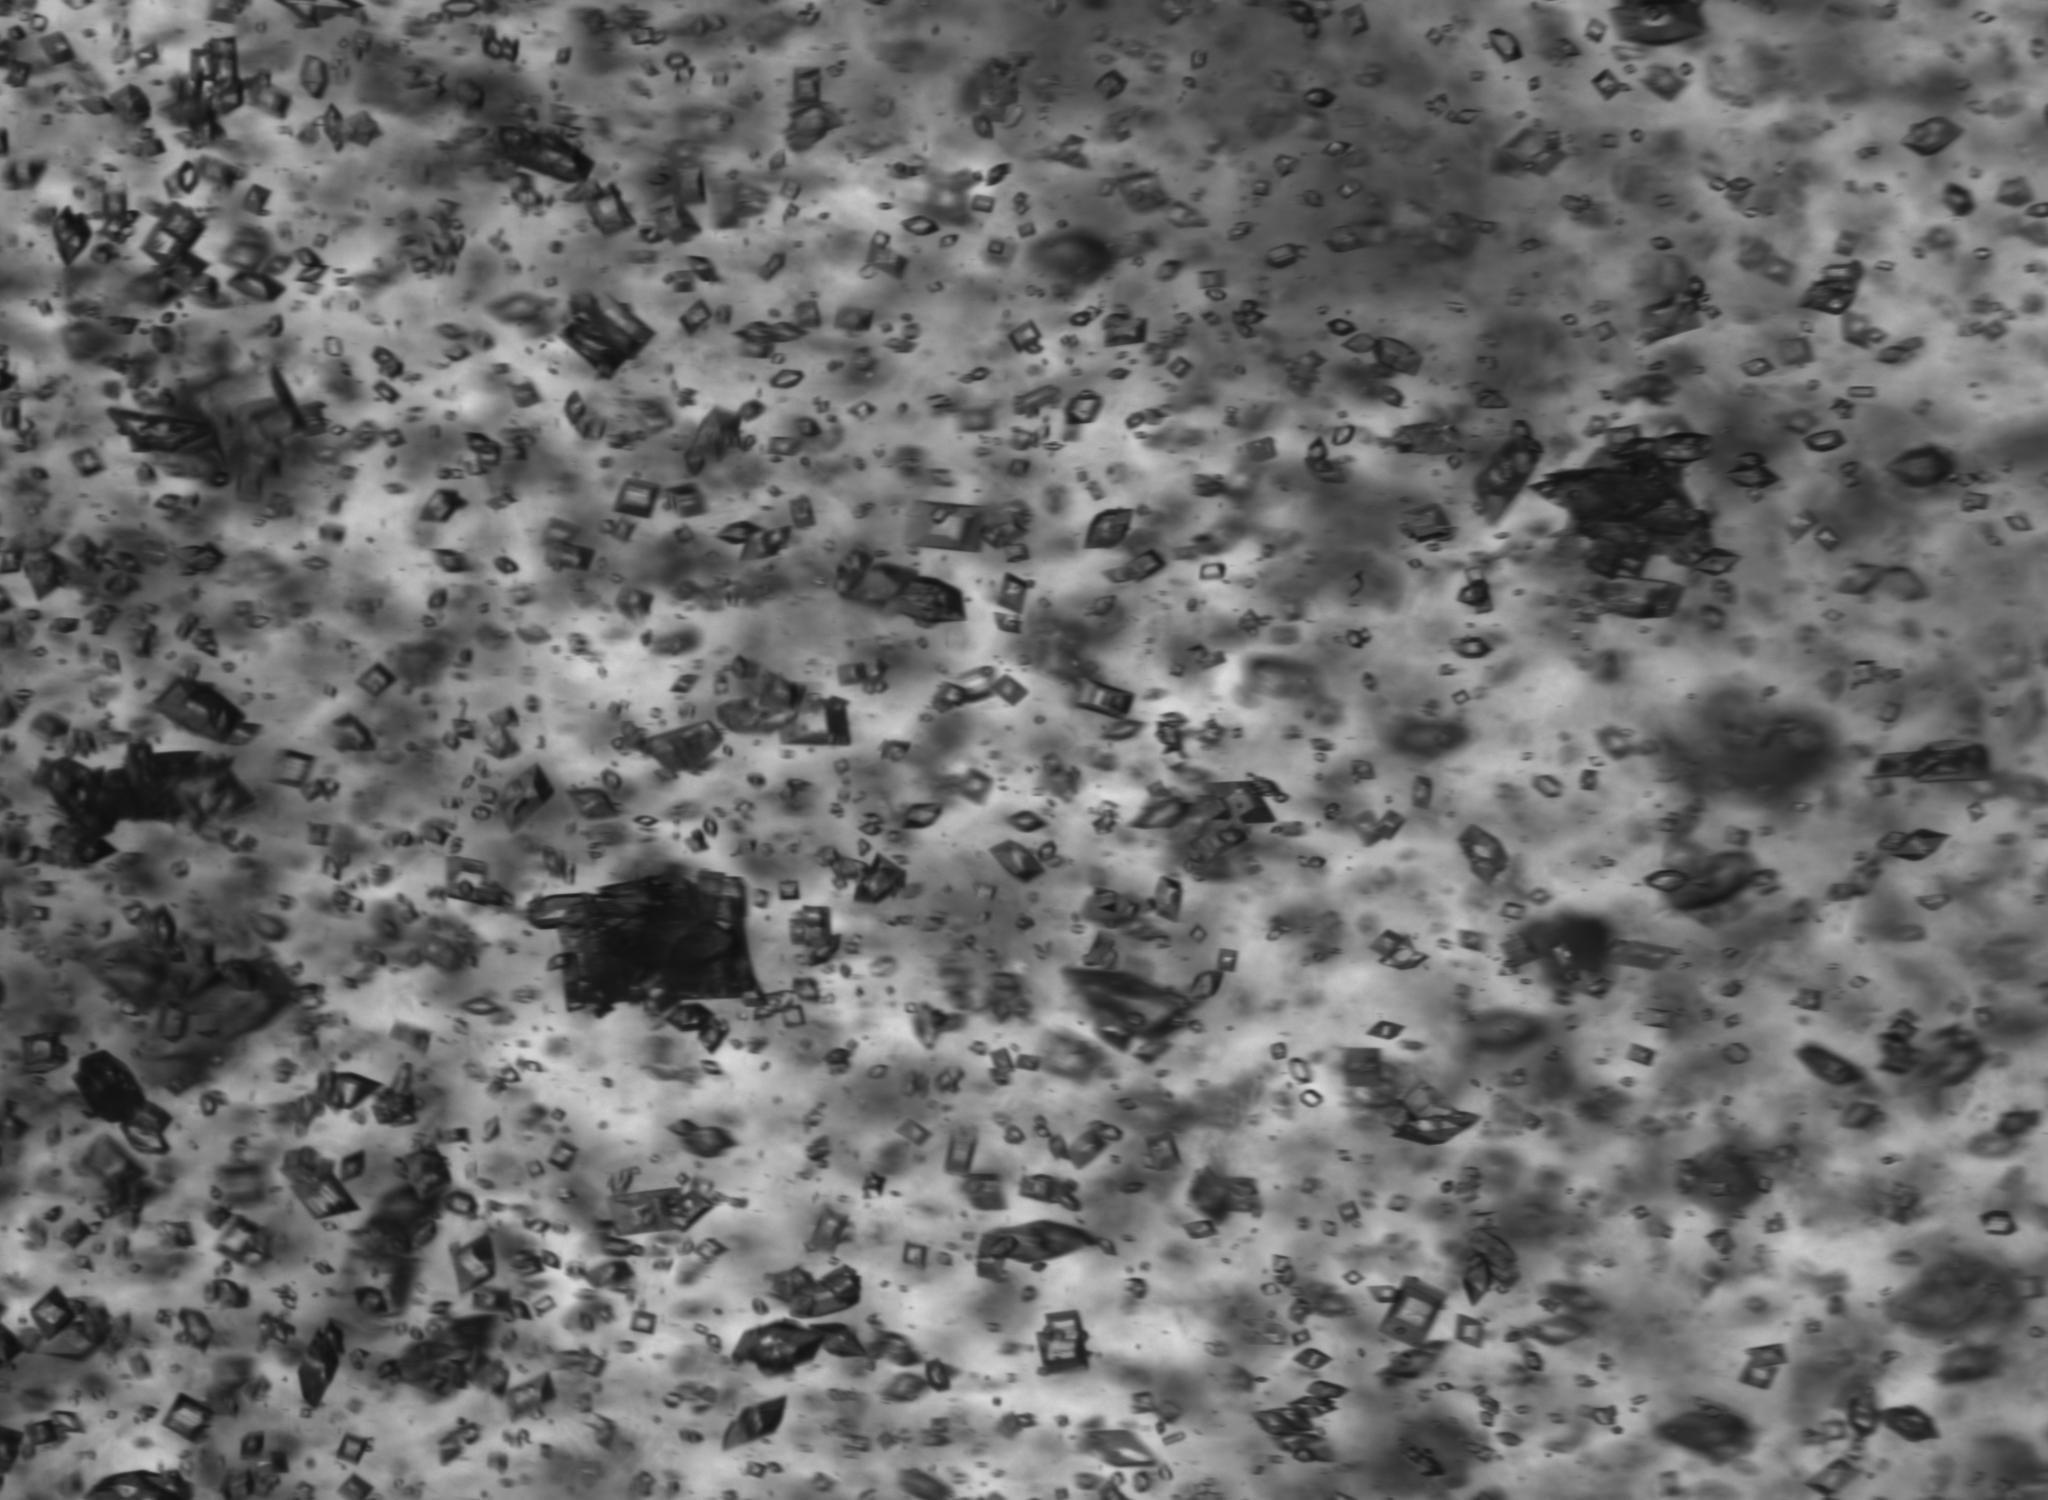crystal: (525, 869, 757, 1013), (33, 741, 251, 864), (1534, 439, 1711, 579), (180, 367, 321, 496), (709, 655, 846, 746), (156, 35, 245, 151), (1072, 969, 1194, 1053), (377, 1314, 496, 1398), (833, 554, 965, 627), (560, 294, 654, 379), (73, 1051, 167, 1134), (272, 1072, 383, 1137), (153, 678, 256, 744), (976, 1220, 1100, 1276), (280, 1145, 364, 1220), (1476, 439, 1546, 522), (499, 122, 595, 180), (110, 409, 216, 460), (733, 1320, 824, 1378), (607, 1188, 711, 1236), (1379, 1276, 1447, 1347), (690, 401, 760, 469), (902, 499, 987, 554), (631, 722, 722, 773), (776, 1265, 863, 1314), (1873, 744, 1991, 781), (130, 253, 208, 307), (1638, 290, 1708, 348), (1609, 0, 1705, 43), (301, 1315, 345, 1405), (1587, 577, 1682, 617), (723, 1395, 787, 1452), (1035, 1311, 1091, 1374), (1501, 127, 1566, 178), (1390, 1110, 1484, 1145), (1204, 781, 1280, 824), (502, 767, 553, 830), (781, 105, 846, 153), (1802, 262, 1862, 313), (666, 1005, 728, 1053), (149, 205, 200, 262), (665, 1118, 738, 1158), (1088, 1428, 1159, 1468), (650, 192, 703, 247), (1072, 676, 1135, 721), (372, 1061, 415, 1126), (1463, 822, 1507, 884), (1596, 938, 1679, 972), (587, 183, 639, 235), (1797, 1045, 1865, 1085), (1891, 444, 1956, 485), (453, 1231, 495, 1295), (731, 321, 809, 355), (854, 854, 906, 903), (1903, 113, 1962, 156), (1802, 1457, 1862, 1498), (509, 1373, 557, 1424), (33, 1288, 80, 1341), (987, 840, 1045, 881), (24, 550, 70, 601), (1018, 1174, 1081, 1210), (1115, 172, 1170, 213), (1881, 1405, 1943, 1441), (248, 68, 293, 119), (56, 205, 92, 266), (1396, 423, 1464, 455), (805, 1206, 851, 1252), (445, 857, 488, 905), (738, 525, 793, 562), (1062, 1128, 1108, 1171), (219, 1223, 267, 1265), (1129, 795, 1188, 829), (1740, 1344, 1789, 1384), (164, 1395, 210, 1436), (1086, 509, 1135, 547), (329, 713, 378, 751), (226, 272, 288, 302), (813, 1323, 868, 1357), (790, 907, 833, 950), (100, 192, 138, 240), (1307, 436, 1345, 484), (568, 394, 607, 439), (865, 242, 910, 282), (964, 1172, 1008, 1212), (22, 1032, 68, 1071), (111, 84, 153, 126), (270, 748, 313, 787), (1251, 1408, 1313, 1435), (568, 787, 620, 819), (1375, 340, 1425, 374), (1145, 1131, 1183, 1174), (178, 1309, 215, 1354), (1406, 506, 1452, 541), (121, 1125, 170, 1156), (614, 480, 661, 512), (172, 542, 227, 569), (1897, 832, 1949, 861), (1013, 383, 1057, 417), (391, 1020, 432, 1055), (544, 544, 596, 571), (957, 767, 994, 805), (1124, 549, 1166, 582), (1690, 547, 1741, 574), (997, 573, 1029, 616), (1464, 1260, 1495, 1304), (347, 111, 385, 146), (668, 484, 706, 519), (1379, 945, 1428, 972), (356, 663, 398, 695), (1994, 177, 2035, 208), (1105, 318, 1148, 348), (674, 165, 706, 205), (1325, 224, 1366, 255), (946, 1133, 976, 1174), (992, 673, 1029, 706), (1487, 29, 1523, 62), (714, 520, 765, 544), (207, 1280, 248, 1309), (754, 991, 795, 1020), (588, 1261, 634, 1287), (1337, 3, 1371, 38), (1725, 466, 1778, 488), (467, 433, 504, 464), (1592, 68, 1628, 100), (302, 57, 329, 100), (161, 1001, 189, 1040), (1156, 876, 1181, 921), (1288, 1397, 1339, 1419), (421, 493, 463, 520), (41, 32, 75, 65), (682, 299, 712, 336), (832, 305, 875, 331), (1008, 318, 1040, 352), (1065, 393, 1099, 425), (72, 447, 107, 477), (902, 803, 943, 829), (412, 62, 448, 91), (336, 1473, 374, 1500), (1263, 243, 1302, 269), (483, 725, 515, 757), (86, 604, 119, 635), (455, 78, 485, 111), (1094, 68, 1127, 99), (1644, 870, 1689, 892), (1458, 1312, 1485, 1349), (32, 711, 70, 736), (545, 517, 584, 542), (1272, 1433, 1323, 1452), (60, 1220, 92, 1250), (1377, 806, 1407, 838), (370, 347, 404, 375), (789, 496, 817, 530), (897, 1118, 930, 1147), (603, 1236, 646, 1258), (509, 1250, 544, 1277), (425, 197, 461, 223), (1978, 1210, 2015, 1236), (1452, 636, 1493, 659), (663, 52, 693, 83), (337, 1433, 366, 1465), (1053, 134, 1084, 162), (483, 35, 518, 60), (1409, 776, 1434, 811), (685, 256, 720, 282), (1232, 299, 1267, 324), (156, 903, 176, 946), (1102, 719, 1142, 741), (472, 1287, 509, 1311), (549, 1141, 577, 1171), (1247, 436, 1277, 464), (27, 1419, 59, 1446), (253, 915, 285, 942), (1008, 811, 1049, 832), (355, 1287, 388, 1312), (437, 547, 472, 571), (326, 105, 343, 153), (1293, 1349, 1332, 1370), (1342, 332, 1382, 353), (243, 186, 272, 215), (1814, 525, 1843, 554), (838, 662, 868, 689), (514, 382, 545, 407), (924, 1358, 949, 1390), (458, 997, 504, 1015), (695, 1239, 728, 1263), (1705, 1231, 1738, 1255), (488, 706, 522, 730), (1366, 1021, 1407, 1040), (1603, 425, 1641, 445), (797, 67, 819, 102), (832, 857, 867, 880), (1740, 356, 1775, 379), (1458, 579, 1488, 604), (445, 1191, 477, 1215), (992, 1045, 1016, 1077), (1272, 1255, 1296, 1287), (669, 671, 701, 695), (903, 215, 940, 235), (103, 573, 140, 593), (1806, 429, 1843, 450), (440, 1432, 463, 1465), (1158, 722, 1183, 751), (779, 1004, 808, 1029), (1307, 1381, 1348, 1398), (1625, 1043, 1655, 1067), (1643, 1007, 1674, 1029), (54, 1411, 87, 1432), (151, 326, 176, 353), (442, 0, 480, 17), (766, 437, 801, 457), (1876, 830, 1908, 851), (879, 741, 911, 762), (175, 614, 200, 639), (760, 253, 785, 278), (1582, 17, 1608, 43), (793, 977, 819, 1002), (6, 62, 33, 86), (116, 552, 143, 576), (506, 1298, 533, 1322), (242, 1432, 264, 1460), (903, 1241, 925, 1269), (1185, 1220, 1218, 1239), (1533, 775, 1561, 797), (848, 401, 878, 422), (80, 97, 114, 115), (798, 301, 822, 326), (297, 264, 329, 283), (262, 256, 294, 275), (1304, 87, 1336, 107), (1851, 660, 1875, 686), (1167, 355, 1193, 379), (937, 682, 962, 706), (1477, 390, 1509, 409), (172, 1222, 196, 1247), (1722, 1042, 1749, 1064), (1558, 196, 1592, 213), (1916, 894, 1949, 911), (110, 315, 140, 334), (778, 178, 801, 202), (986, 162, 1010, 186), (1798, 988, 1822, 1012), (1835, 232, 1859, 256), (1337, 1201, 1361, 1225), (1132, 1390, 1156, 1414), (631, 1311, 657, 1333), (1290, 1058, 1312, 1083), (1274, 153, 1299, 175), (1590, 320, 1616, 342), (176, 164, 197, 191), (585, 1350, 606, 1378), (138, 43, 159, 70), (1002, 542, 1029, 563), (301, 555, 332, 573), (881, 337, 916, 353), (482, 1115, 501, 1144), (1961, 493, 1989, 512), (1153, 261, 1181, 280), (793, 418, 822, 437), (1371, 1285, 1399, 1304), (124, 900, 146, 924), (307, 822, 331, 845), (1013, 429, 1035, 453), (153, 492, 183, 509), (2003, 515, 2034, 533), (684, 832, 709, 853), (968, 194, 995, 213), (1301, 189, 1328, 208), (1588, 1406, 1616, 1425), (1325, 318, 1353, 336), (385, 428, 409, 449), (816, 846, 840, 867), (412, 255, 436, 275), (423, 824, 447, 845), (1253, 776, 1277, 797), (674, 269, 693, 294), (1499, 900, 1525, 919), (1352, 760, 1377, 779), (440, 1128, 471, 1144), (558, 1350, 588, 1366), (442, 345, 472, 361), (1452, 110, 1482, 126), (820, 1048, 851, 1064), (628, 25, 655, 43), (1199, 270, 1226, 288), (1199, 562, 1226, 579), (1016, 1055, 1043, 1072), (925, 393, 952, 410), (377, 382, 399, 402), (167, 1075, 189, 1096), (534, 1295, 557, 1315), (1251, 177, 1272, 199), (452, 719, 474, 740), (477, 784, 498, 806), (774, 371, 803, 387), (48, 619, 80, 633), (1218, 948, 1237, 972), (1705, 1180, 1733, 1196), (1228, 221, 1253, 239), (844, 1435, 870, 1452), (493, 557, 518, 574), (1493, 1432, 1523, 1446), (460, 1422, 480, 1443), (1460, 931, 1480, 951), (1334, 426, 1355, 447), (297, 248, 321, 266), (1299, 1090, 1323, 1107), (1387, 1195, 1410, 1212), (1479, 1393, 1498, 1414), (1581, 768, 1598, 791), (1345, 574, 1363, 597), (1525, 1349, 1542, 1371), (1323, 142, 1350, 156), (1727, 177, 1754, 191), (105, 651, 121, 674), (1649, 235, 1673, 251), (248, 614, 272, 630), (2024, 202, 2048, 218), (744, 1462, 768, 1478), (781, 881, 800, 900), (1425, 27, 1444, 46), (1736, 453, 1765, 466), (871, 229, 890, 248), (1010, 458, 1029, 477), (1256, 1282, 1282, 1296), (601, 770, 620, 789), (326, 336, 343, 356), (1003, 1125, 1024, 1142), (1344, 1269, 1364, 1287), (1294, 1448, 1318, 1462), (542, 1250, 560, 1269), (528, 1160, 545, 1179), (1189, 49, 1207, 68), (1967, 802, 1984, 821), (1018, 221, 1037, 239), (1511, 420, 1530, 437), (29, 14, 49, 30), (1754, 1177, 1775, 1193), (868, 1064, 889, 1080), (633, 814, 658, 827), (502, 1067, 522, 1083), (518, 1059, 542, 1072), (1452, 689, 1471, 705), (471, 805, 490, 821), (1345, 630, 1361, 649), (1070, 312, 1091, 326), (860, 821, 881, 835), (970, 366, 991, 380), (1654, 194, 1676, 207), (1848, 387, 1873, 398), (1293, 1328, 1310, 1344), (1709, 177, 1727, 192), (1321, 1218, 1337, 1236), (557, 46, 571, 65), (1598, 134, 1617, 148), (703, 818, 717, 837), (1875, 259, 1895, 272), (924, 282, 944, 294), (1356, 627, 1372, 643), (1272, 1042, 1286, 1059), (1339, 183, 1356, 197), (1631, 1204, 1649, 1218), (987, 240, 1005, 255), (1204, 288, 1226, 299), (784, 204, 800, 218), (903, 324, 917, 340), (1973, 247, 1991, 259), (1479, 1413, 1493, 1427), (1434, 1382, 1455, 1392), (940, 235, 957, 247), (1528, 75, 1539, 91), (1631, 129, 1644, 142), (161, 312, 175, 323)
